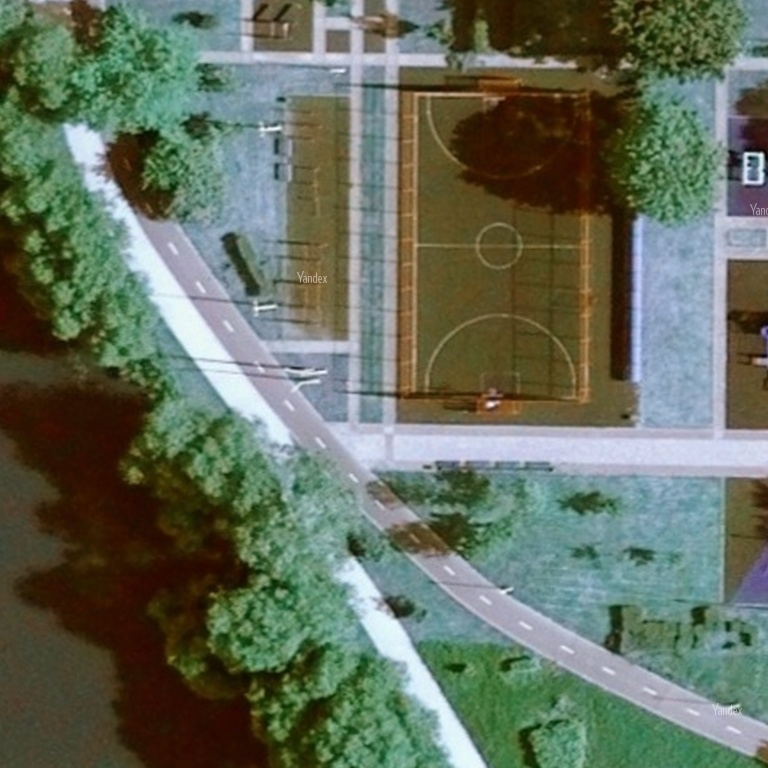basket_court: (385, 77, 605, 425)
